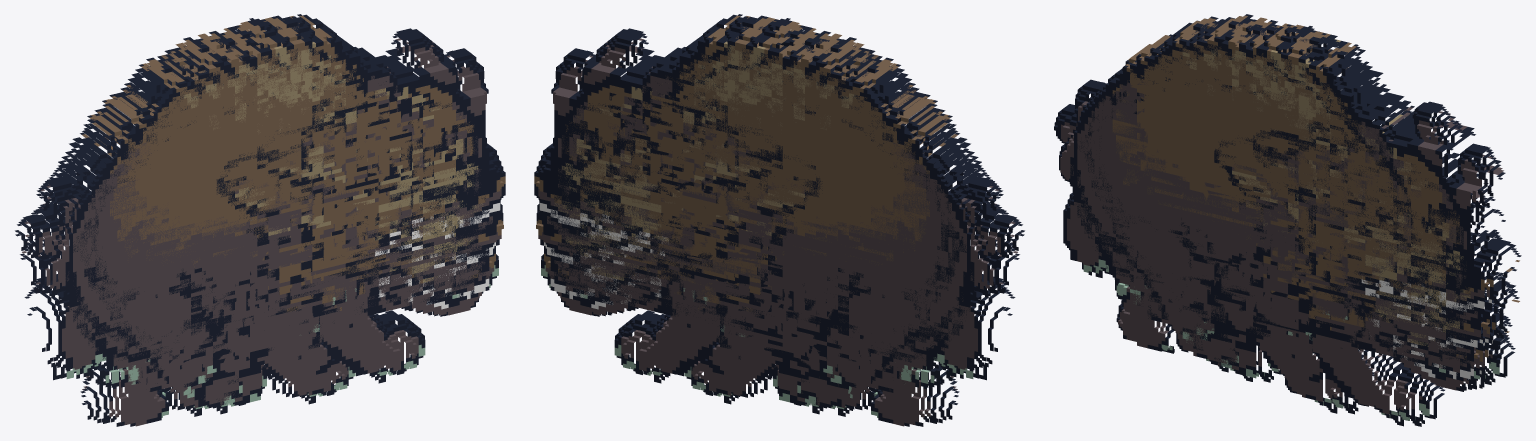
Rendered from urso_andando.glb.
3 views of the same model, side by side, from view 1: azimuth 30°, elevation 25°; view 2: azimuth 150°, elevation 25°; view 3: azimuth 330°, elevation 25° (orthographic). The views are drawn at different scales.
Parts seen in each view (by area): view 1: q1, q0, q2, q3, q4; view 2: q1, q0, q2, q3, q4; view 3: q0, q1, q2, q3, q4.
Boxes of the visible parts, x1,y1,x2,y2 form: q1: (15,15,505,426); q0: (20,32,459,416); q2: (24,14,503,383); q3: (56,42,495,404); q4: (32,82,468,414); q1: (534,15,1024,426); q0: (580,32,1019,416); q2: (536,14,1015,383); q3: (544,42,983,404); q4: (569,84,1007,414); q0: (1059,16,1477,372); q1: (1054,14,1521,385); q2: (1063,25,1519,426); q3: (1091,47,1512,414); q4: (1070,76,1486,382).
Bounding box in the file's own units: 129 × 101 × 16.
1 material, 1 textured.
